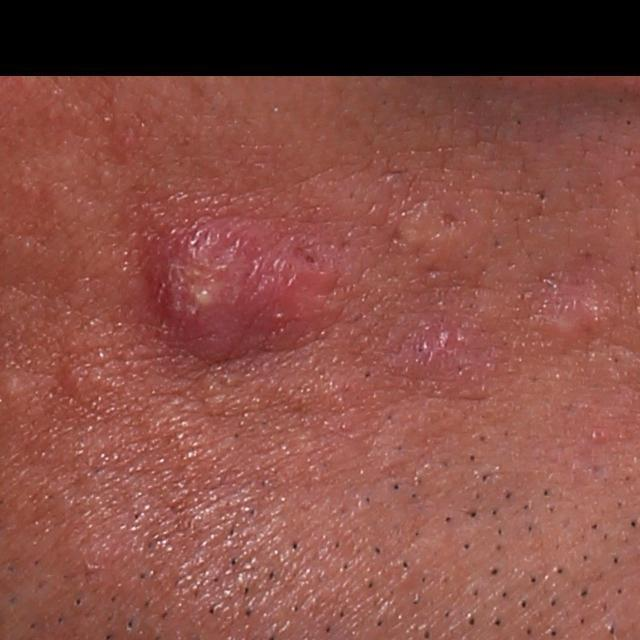hypertrophic_scar: (395, 209, 488, 272)
nodule: (144, 209, 335, 357)
papule: (551, 282, 616, 344), (411, 320, 460, 382)
